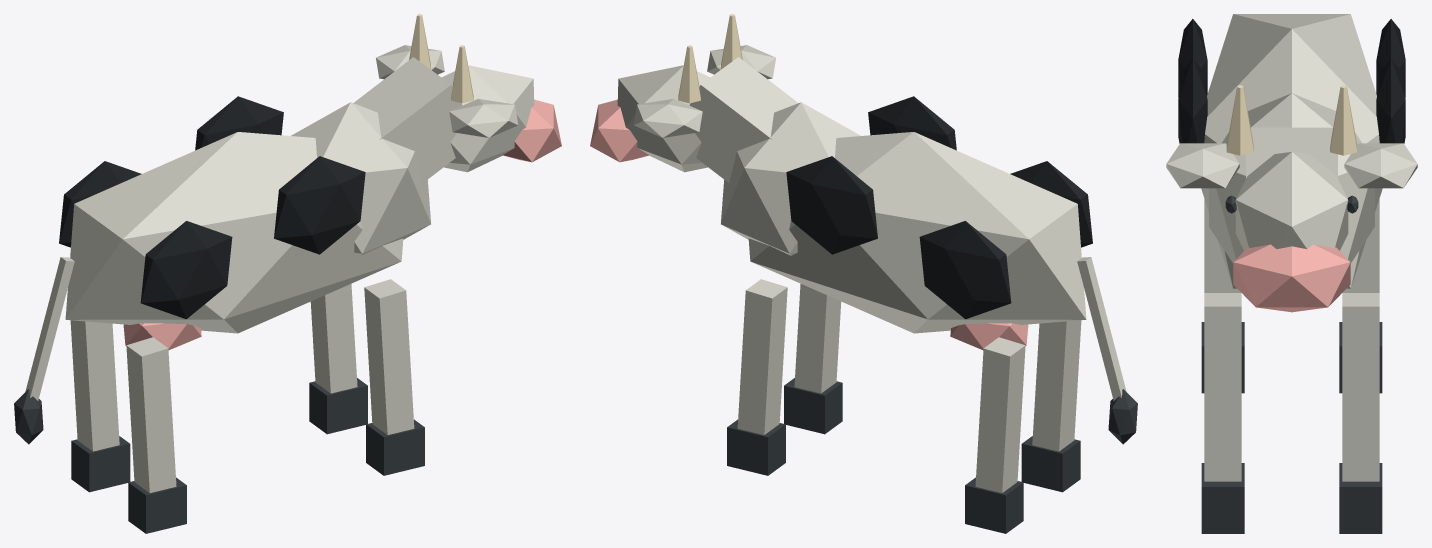
File: TR3_Cow_BlackWhite.glb
The picture shows the model from 3 angles, left to right: view 1: azimuth 30°, elevation 25°; view 2: azimuth 150°, elevation 25°; view 3: azimuth 270°, elevation 25°; orthographic projection. The views are drawn at different scales.
Parts seen in each view (by area): view 1: TR3_Cow_BlackWhite; view 2: TR3_Cow_BlackWhite; view 3: TR3_Cow_BlackWhite.
Boxes of the visible parts, bbox=[...] form: TR3_Cow_BlackWhite: bbox=[14, 14, 561, 533]; TR3_Cow_BlackWhite: bbox=[590, 14, 1137, 533]; TR3_Cow_BlackWhite: bbox=[1166, 14, 1417, 533].
Size of the model in its own units: 2.62 by 1.84 by 0.8752.
